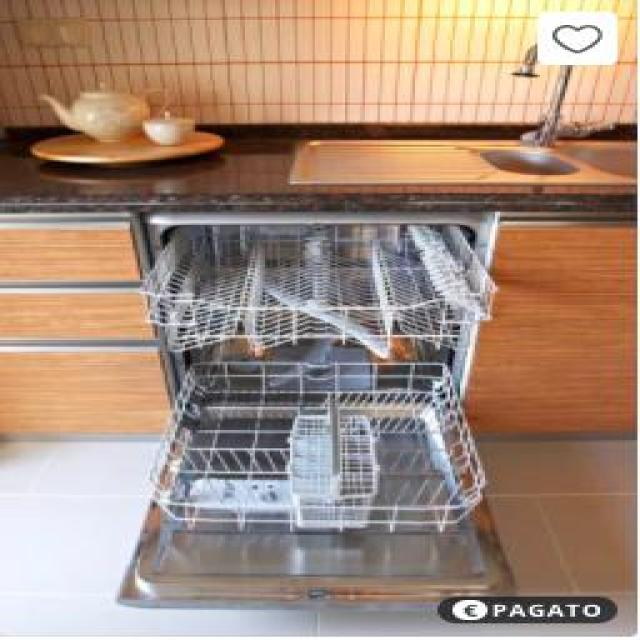dishwasher: (110, 206, 508, 612)
